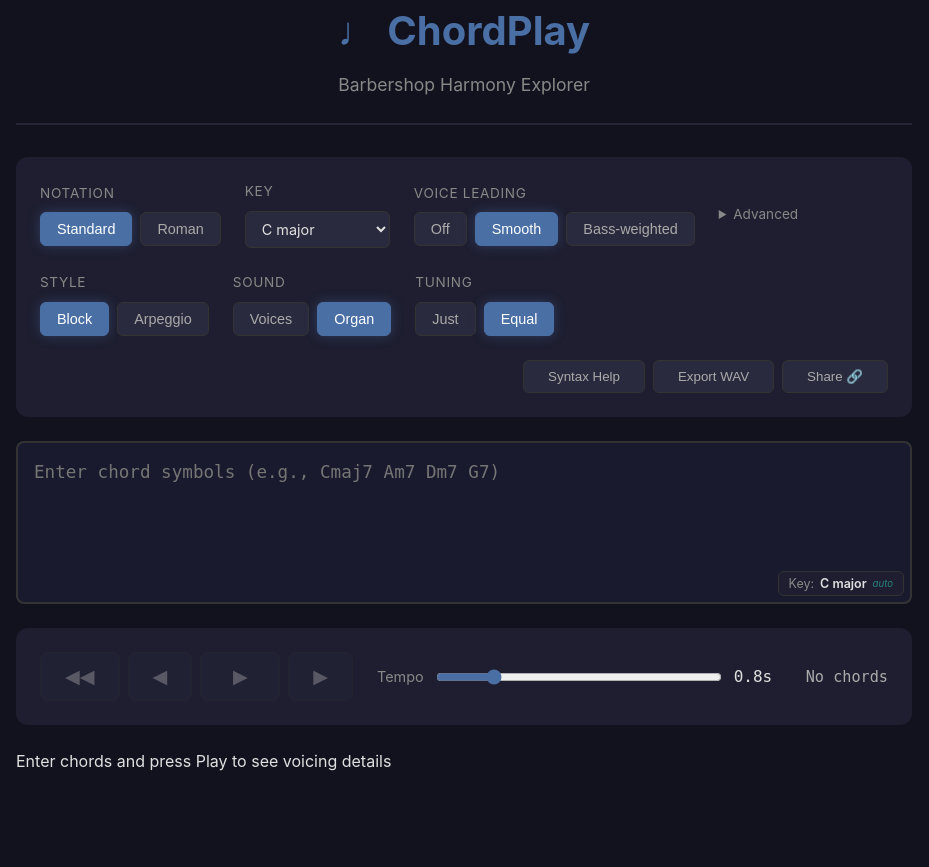
Scenario: App — chord input › updates chord counter after entering valid chords
Type "C Am G" into the text box at (464, 519), box [34,459,894,579]
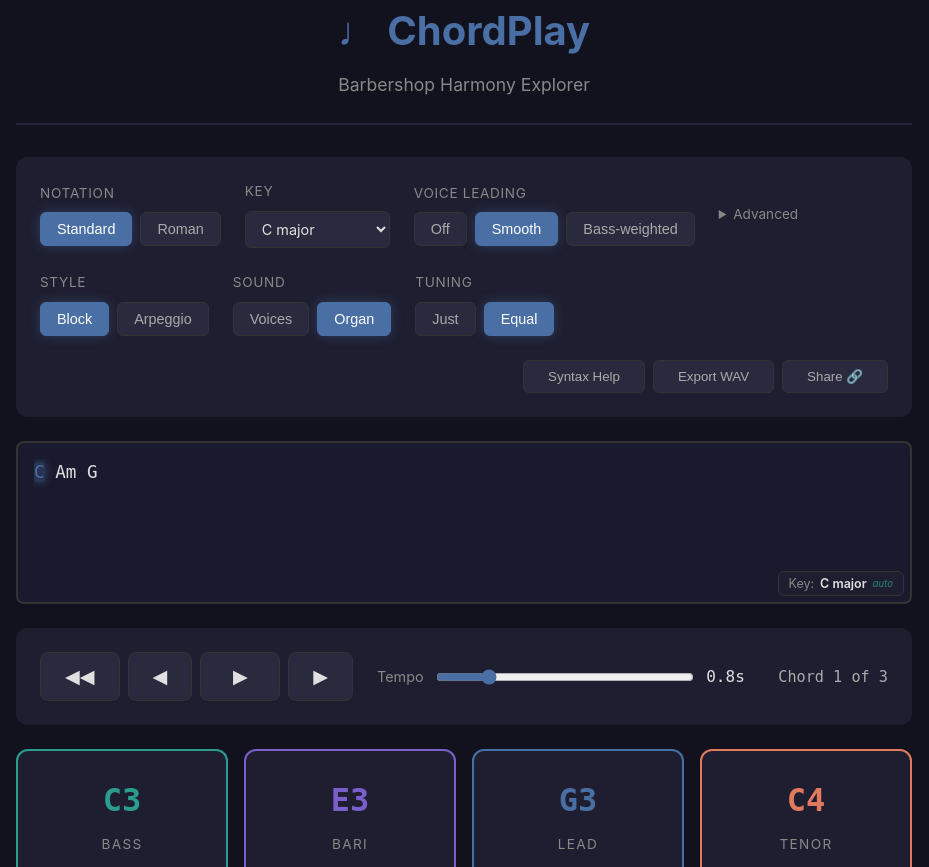
expect the message reads "Chord 1 of 3": met, box [778,665,888,689]
